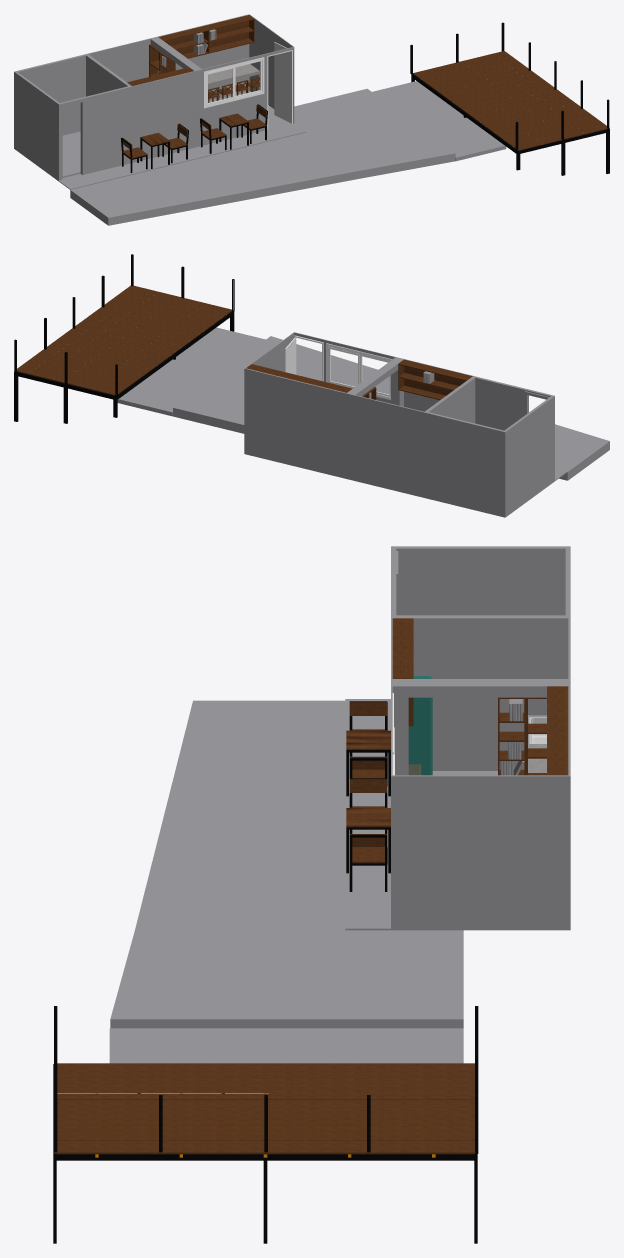
3 views of the same model, one above another, from view 1: azimuth 30°, elevation 25°; view 2: azimuth 150°, elevation 25°; view 3: azimuth 270°, elevation 25° (orthographic). The views are drawn at different scales.
Size of the model in its own units: 15.6 by 3.87 by 7.49.
15 materials, 6 textured.
